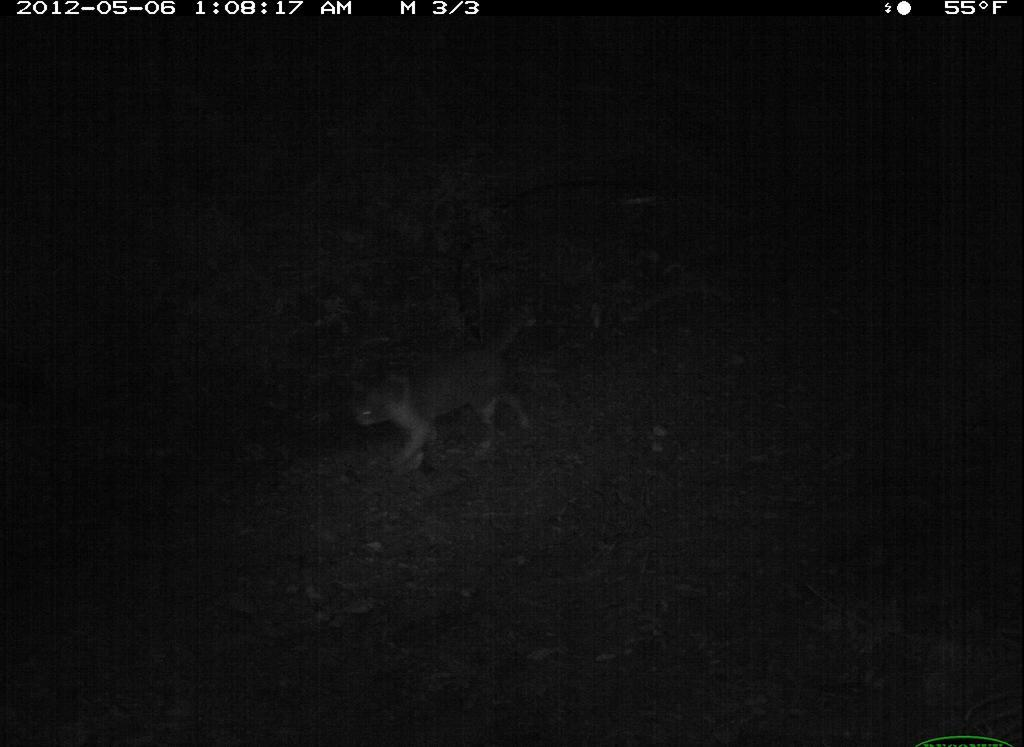cat: (329, 308, 580, 489)
